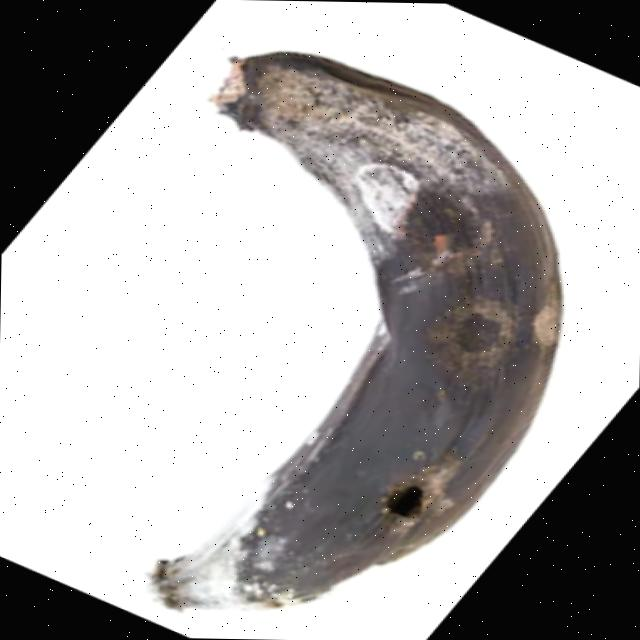Rotten: (154, 48, 572, 621)
